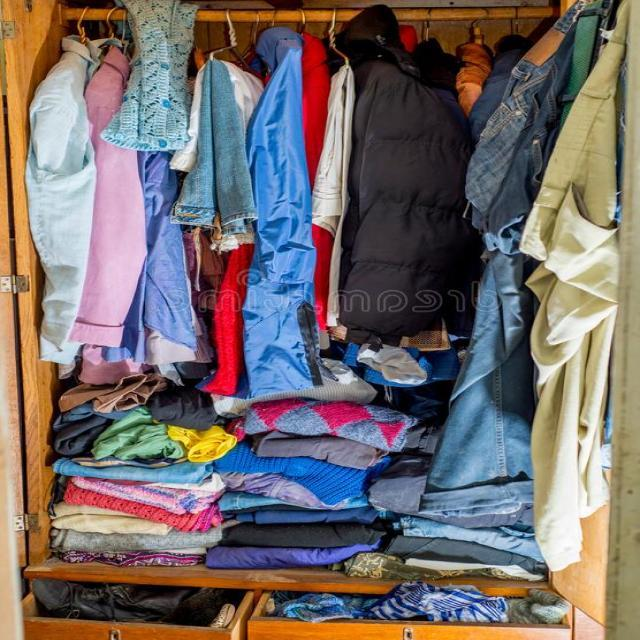clothes: (48, 39, 598, 564)
